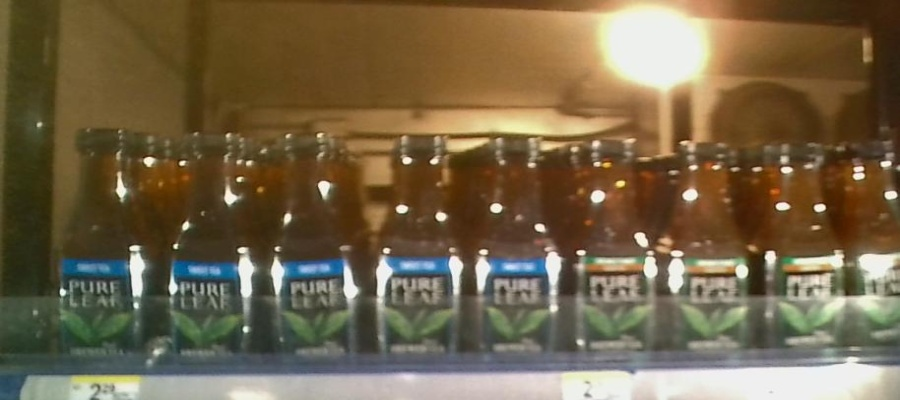bottle: (54, 123, 157, 368), (263, 127, 363, 369), (366, 134, 466, 376), (471, 126, 565, 373), (163, 126, 258, 370), (752, 137, 848, 362), (569, 127, 656, 369), (660, 134, 748, 365), (851, 137, 900, 365)
